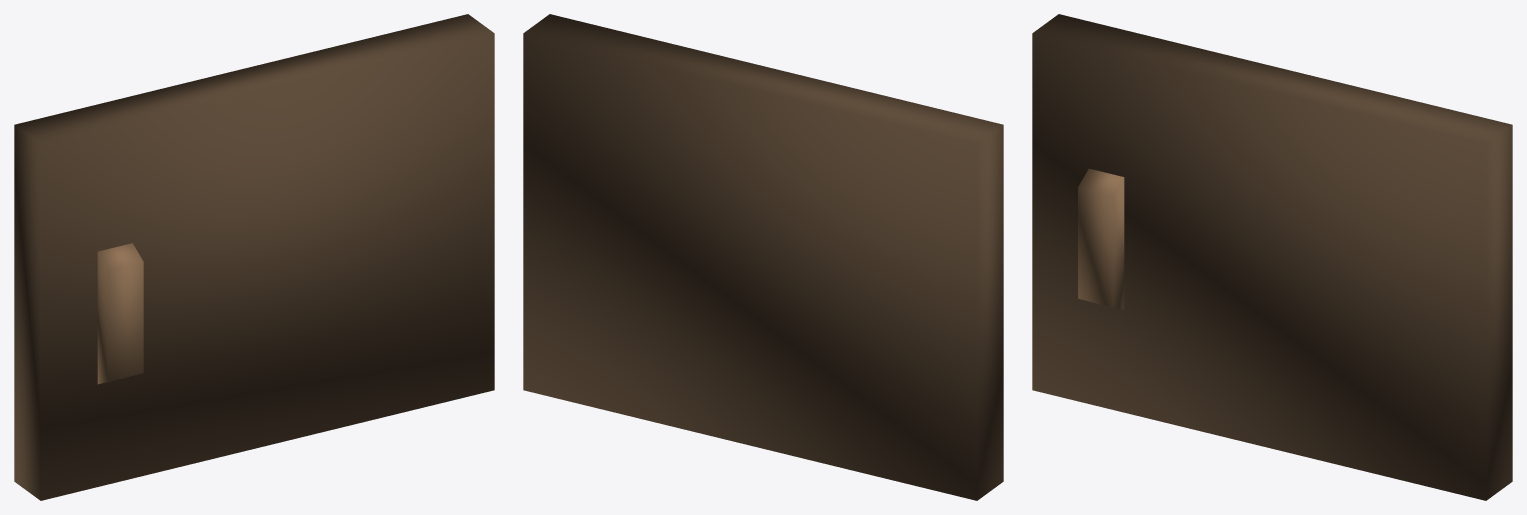
File: TVDoorRight_Livingroom_V1.fbx
3 renders of one model, left to right at view 1: azimuth 30°, elevation 25°; view 2: azimuth 150°, elevation 25°; view 3: azimuth 330°, elevation 25°, orthographic.
Parts seen in each view (by area): view 1: Cube.004, Cube.006; view 2: Cube.004; view 3: Cube.004, Cube.006.
Boxes of the visible parts, <box> form: Cube.004: <box>14,14,494,500</box>; Cube.006: <box>97,243,143,384</box>; Cube.004: <box>523,14,1003,500</box>; Cube.004: <box>1032,14,1512,500</box>; Cube.006: <box>1078,168,1124,309</box>.
Size of the model in its own units: 82.68 by 62.11 by 11.82.
